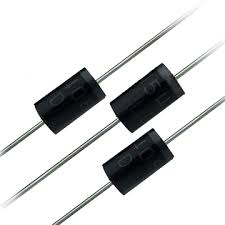diode: (22, 54, 110, 136), (99, 128, 179, 202)
